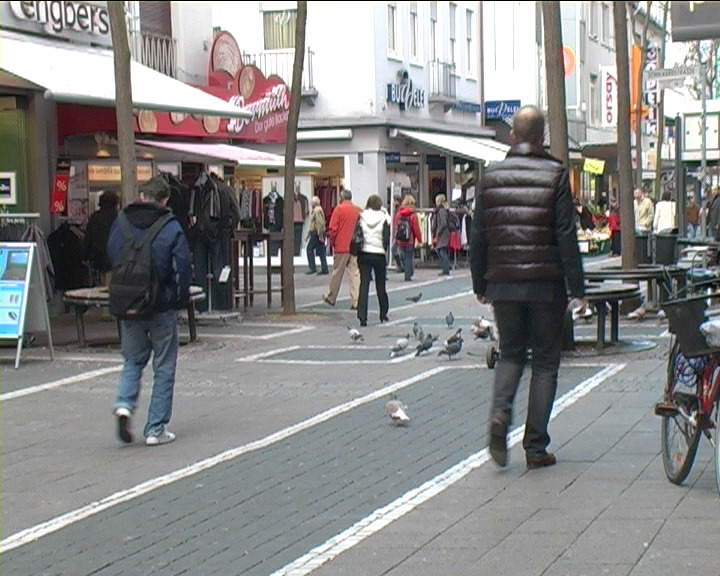undeflect: (488, 103, 568, 194), (114, 175, 185, 237)
